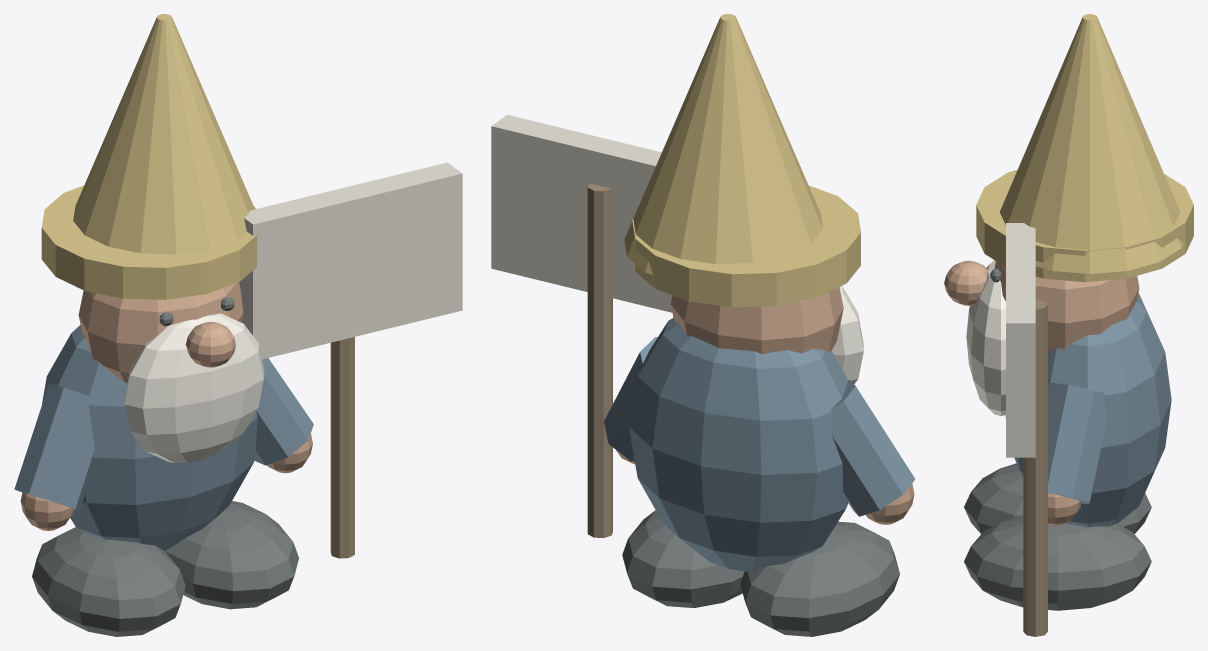
The model's file is garden-gnome-placard.glb.
3 views of the same model, side by side, from view 1: azimuth 30°, elevation 25°; view 2: azimuth 150°, elevation 25°; view 3: azimuth 270°, elevation 25° (orthographic). The views are drawn at different scales.
Visible parts, largest first — view 1: hat brim.001, blank placard, coat.001, boot.002, beard.001, hand.002, placard pole; view 2: coat.001, hat brim.001, blank placard, boot.002, placard pole, hand.002, beard.001; view 3: hat brim.001, coat.001, boot.002, hand.002, blank placard, placard pole, beard.001.
Part boxes in pixels (left/top/right/bottom): hat brim.001: left=41, top=14, right=256, bottom=299; blank placard: left=239, top=162, right=462, bottom=359; coat.001: left=14, top=325, right=313, bottom=549; boot.002: left=32, top=297, right=298, bottom=636; beard.001: left=124, top=313, right=264, bottom=463; hand.002: left=20, top=282, right=312, bottom=530; placard pole: left=330, top=337, right=354, bottom=558; coat.001: left=604, top=318, right=915, bottom=572; hat brim.001: left=624, top=14, right=860, bottom=307; blank placard: left=491, top=114, right=672, bottom=312; boot.002: left=622, top=510, right=899, bottom=636; placard pole: left=587, top=183, right=612, bottom=538; hand.002: left=616, top=287, right=914, bottom=524; beard.001: left=831, top=286, right=863, bottom=383; hat brim.001: left=976, top=14, right=1193, bottom=282; coat.001: left=1005, top=293, right=1171, bottom=527; boot.002: left=964, top=268, right=1151, bottom=610; hand.002: left=944, top=260, right=1139, bottom=526; blank placard: left=1006, top=223, right=1035, bottom=457; placard pole: left=1023, top=299, right=1047, bottom=636; beard.001: left=966, top=260, right=1005, bottom=415.
Size of the model in its own units: 0.9497 by 1.26 by 0.505.
